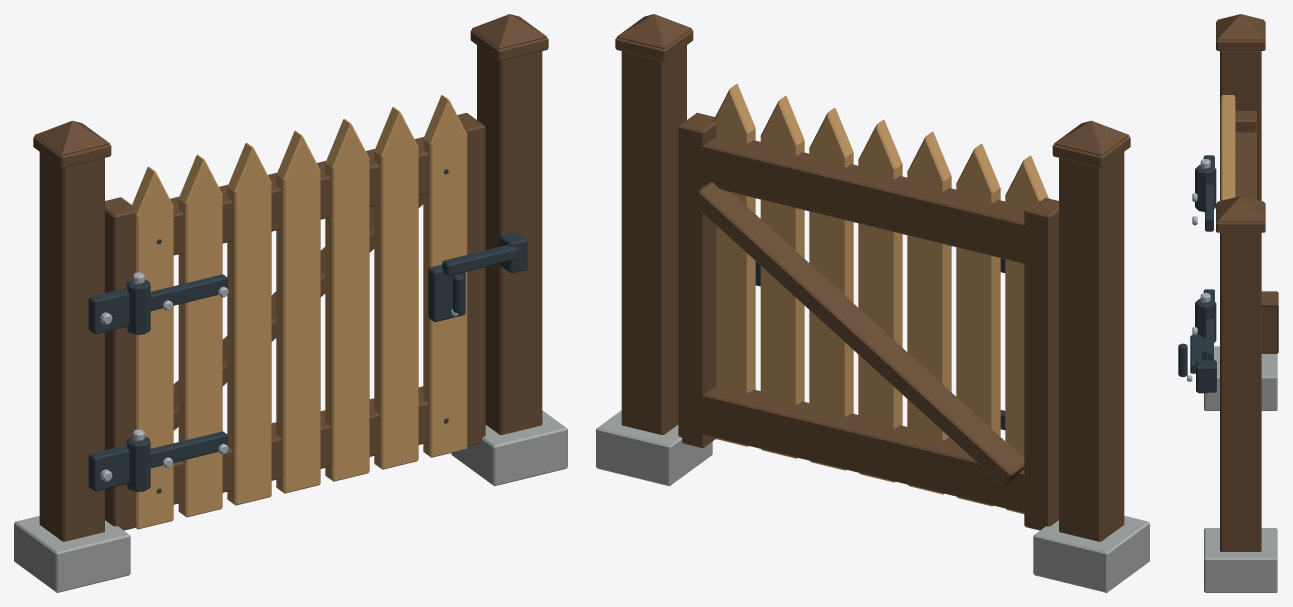
The model's file is b19_picket_garden_gate.glb.
3 views of the same model, side by side, from view 1: azimuth 30°, elevation 25°; view 2: azimuth 150°, elevation 25°; view 3: azimuth 270°, elevation 25° (orthographic). The views are drawn at different scales.
Visible parts, largest first — view 1: b19_picket_garden_gate; view 2: b19_picket_garden_gate; view 3: b19_picket_garden_gate.
Boxes of the visible parts, x1,y1,x2,y2 form: b19_picket_garden_gate: [14, 14, 567, 592]; b19_picket_garden_gate: [596, 14, 1149, 592]; b19_picket_garden_gate: [1178, 14, 1278, 592].
Size of the model in its own units: 1.57 by 1.31 by 0.3122.
